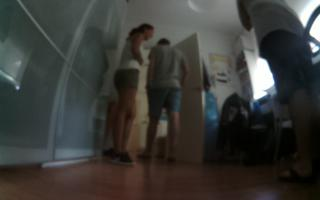person: (230, 1, 320, 188), (134, 35, 193, 165), (108, 19, 158, 168)
